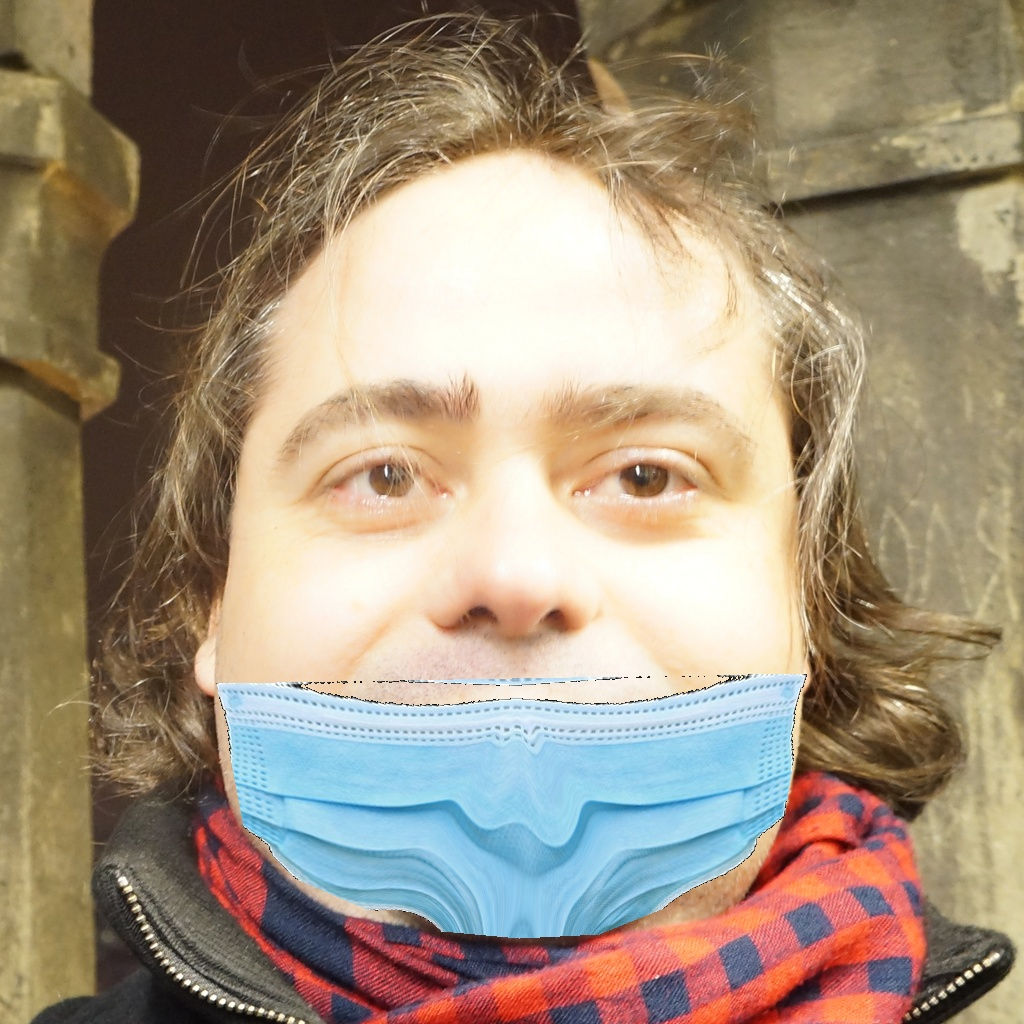mask_weared_incorrect: (227, 343, 794, 931)
